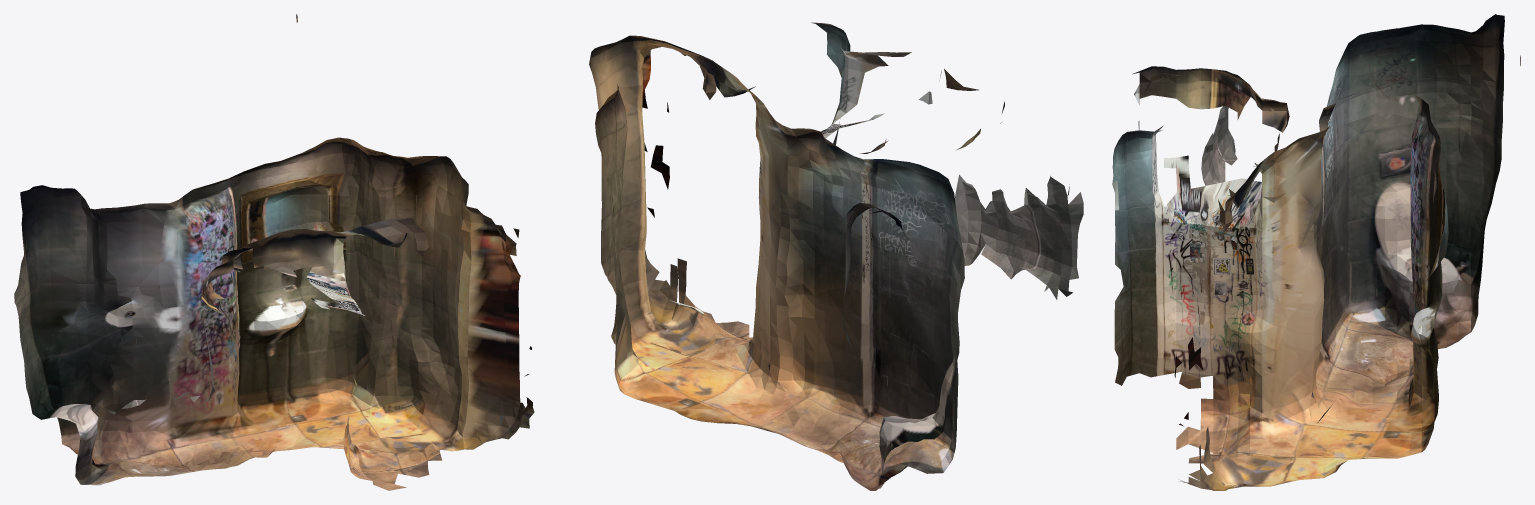
Rendered from schuim.glb.
3 renders of one model, left to right at view 1: azimuth 30°, elevation 25°; view 2: azimuth 150°, elevation 25°; view 3: azimuth 270°, elevation 25°, orthographic. The views are drawn at different scales.
Parts seen in each view (by area): view 1: mesh; view 2: mesh; view 3: mesh.
Part boxes in pixels (x1,y1,x2,y2): mesh: [14, 14, 534, 490]; mesh: [589, 22, 1083, 490]; mesh: [1112, 14, 1520, 490].
Bounding box in the file's own units: 3.69 × 3.12 × 2.7.
1 material, 1 textured.
